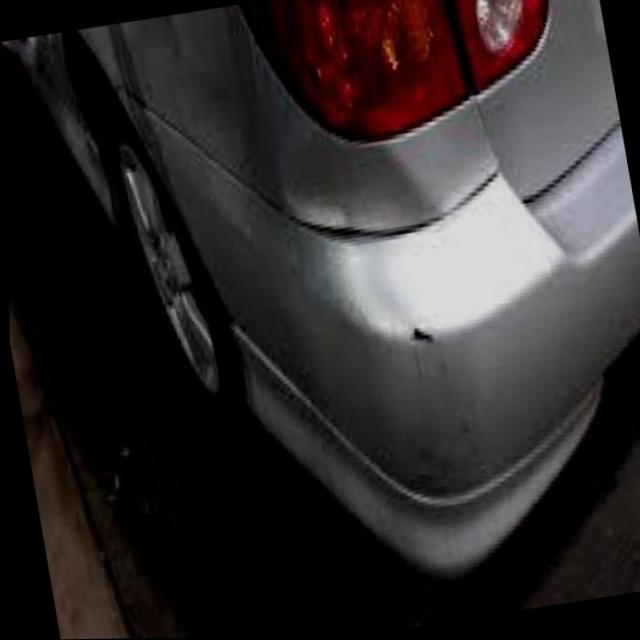Car-Damage: (276, 125, 495, 381), (128, 5, 286, 259)
